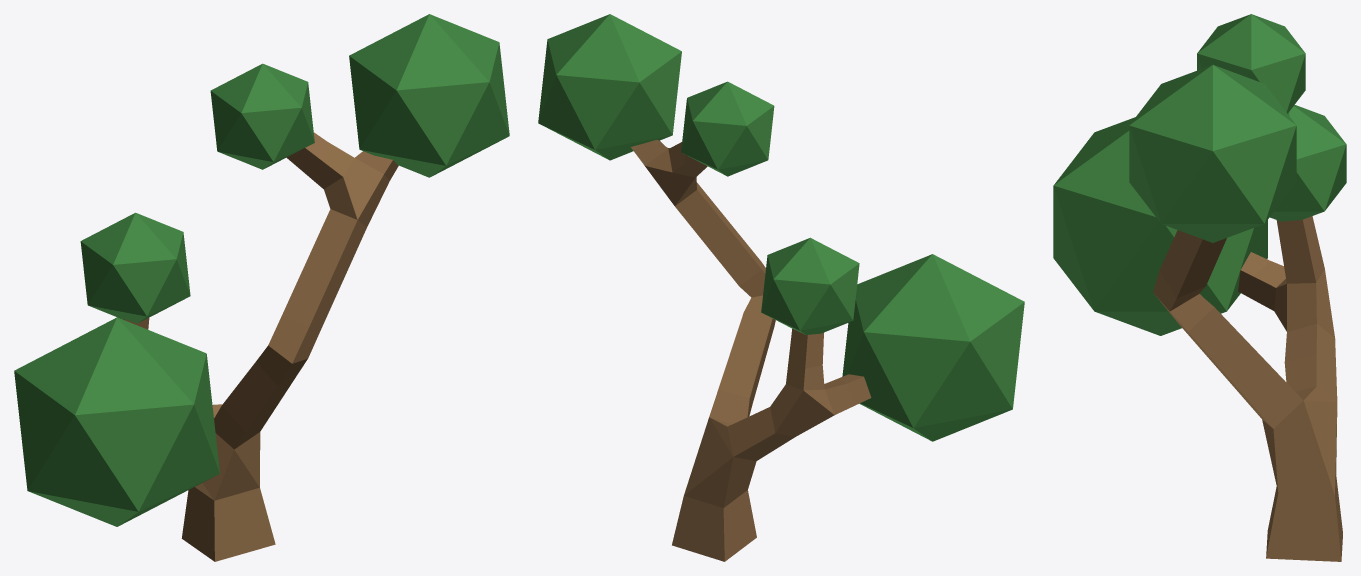
File: tree01.glb
The picture shows the model from 3 angles, left to right: view 1: azimuth 30°, elevation 25°; view 2: azimuth 150°, elevation 25°; view 3: azimuth 270°, elevation 25°; orthographic projection. The views are drawn at different scales.
Visible parts, largest first — view 1: Icosphere, Cube; view 2: Icosphere, Cube; view 3: Icosphere, Cube.
Part boxes in pixels (<box>): Icosphere: <box>14,14,509,526</box>; Cube: <box>123,132,398,561</box>; Icosphere: <box>538,14,1024,441</box>; Cube: <box>631,140,871,561</box>; Icosphere: <box>1053,14,1346,335</box>; Cube: <box>1153,216,1342,561</box>.
Bounding box in the file's own units: 7.22 × 7.27 × 3.4.
